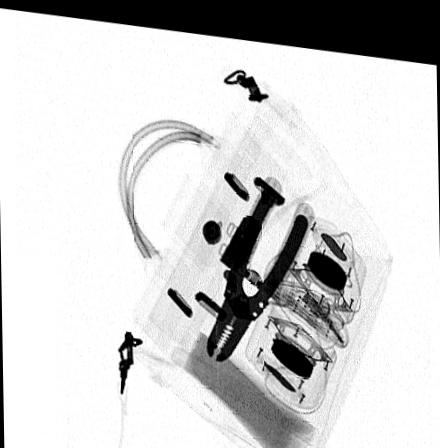Pliers: (206, 182, 307, 354)
